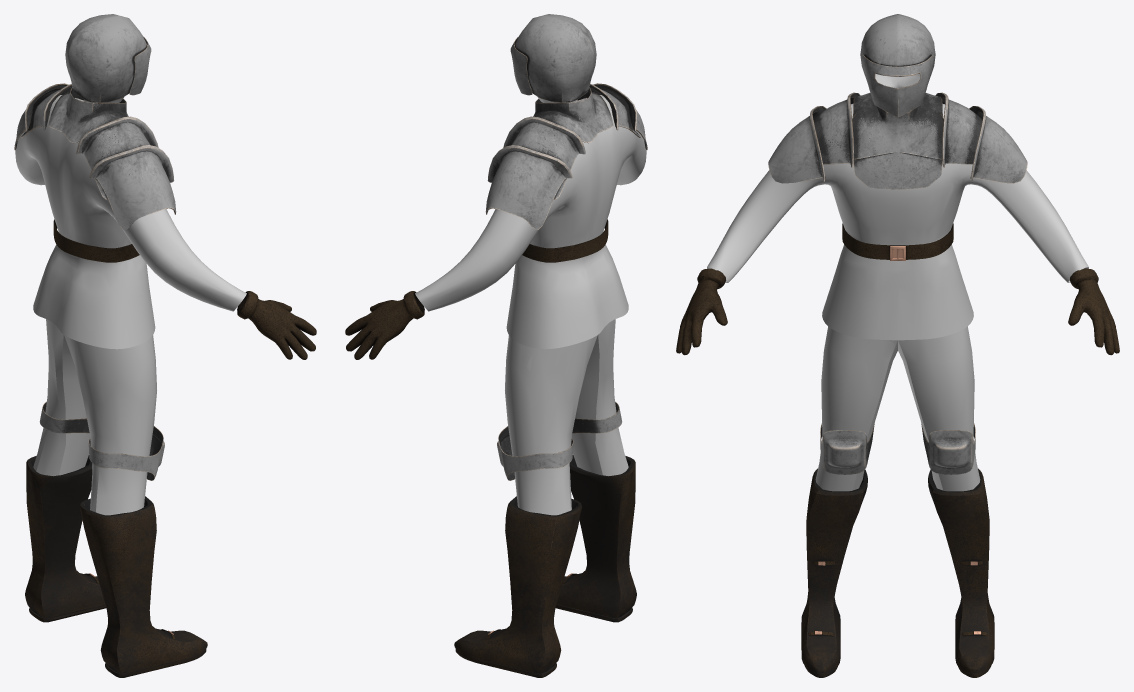
Rendered from GuyInArmor.fbx.
3 renders of one model, left to right at view 1: azimuth 30°, elevation 25°; view 2: azimuth 150°, elevation 25°; view 3: azimuth 270°, elevation 25°, orthographic.
Parts seen in each view (by area): view 1: Leather, Chainmail, Armored, Pants; view 2: Leather, Chainmail, Armored, Pants; view 3: Chainmail, Armored, Leather, Pants.
Part boxes in pixels (box(x1,y1,x2,y2)): Leather: box(25, 219, 316, 677); Chainmail: box(15, 95, 246, 349); Armored: box(14, 14, 176, 480); Pants: box(33, 319, 156, 515); Leather: box(345, 219, 636, 677); Chainmail: box(415, 95, 646, 349); Armored: box(485, 14, 647, 480); Pants: box(505, 319, 628, 515); Chainmail: box(707, 74, 1088, 340); Armored: box(768, 14, 1027, 474); Leather: box(676, 223, 1119, 677); Pants: box(815, 326, 980, 491).
Bounding box in the file's own units: 339 × 1199 × 768.
